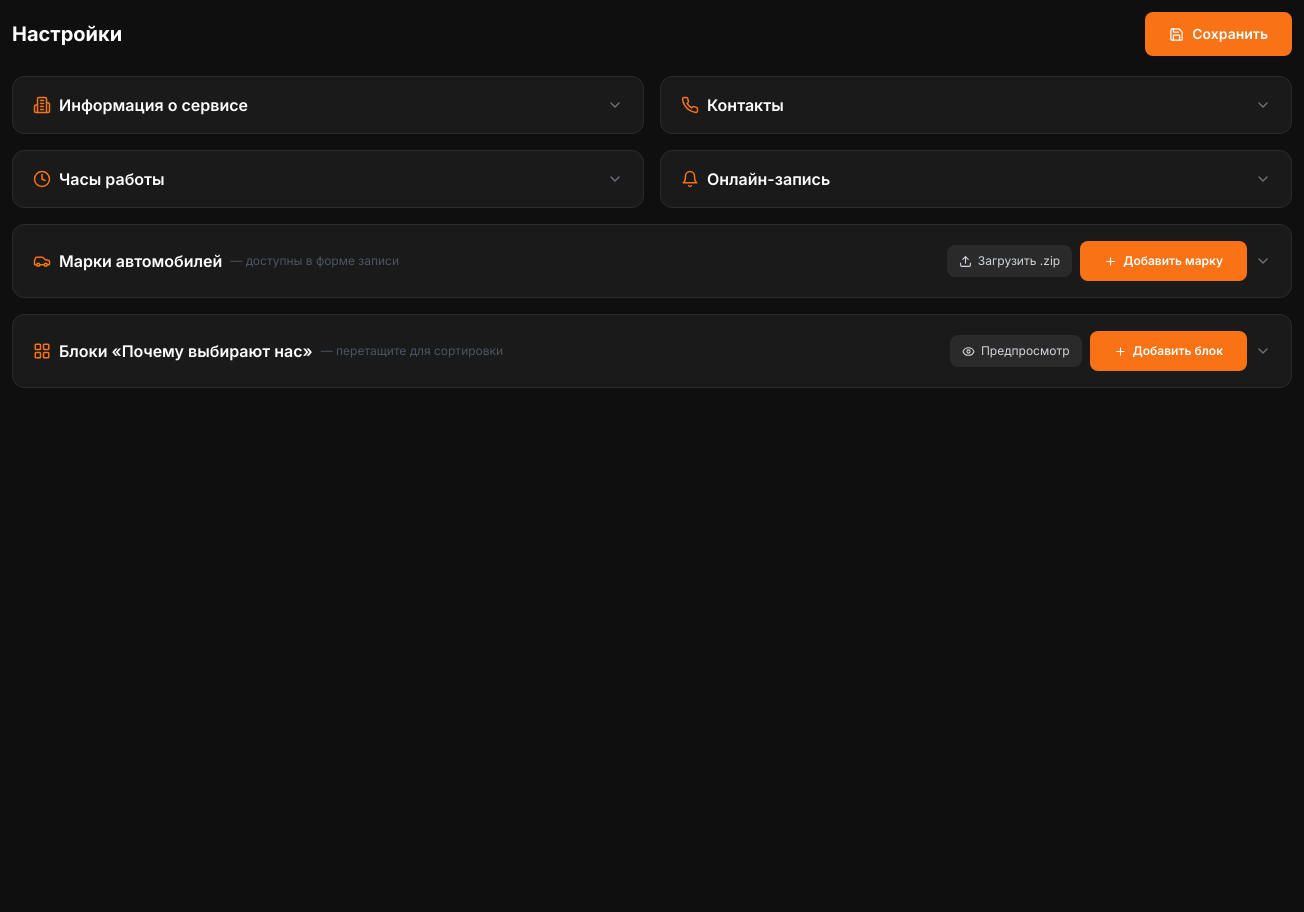
Scenario: SettingsPage › collapses section when header is clicked again
The image size is (1304, 912).
Click the heading "Информация о сервисе". click: (154, 105)
box: [59, 93, 248, 117]
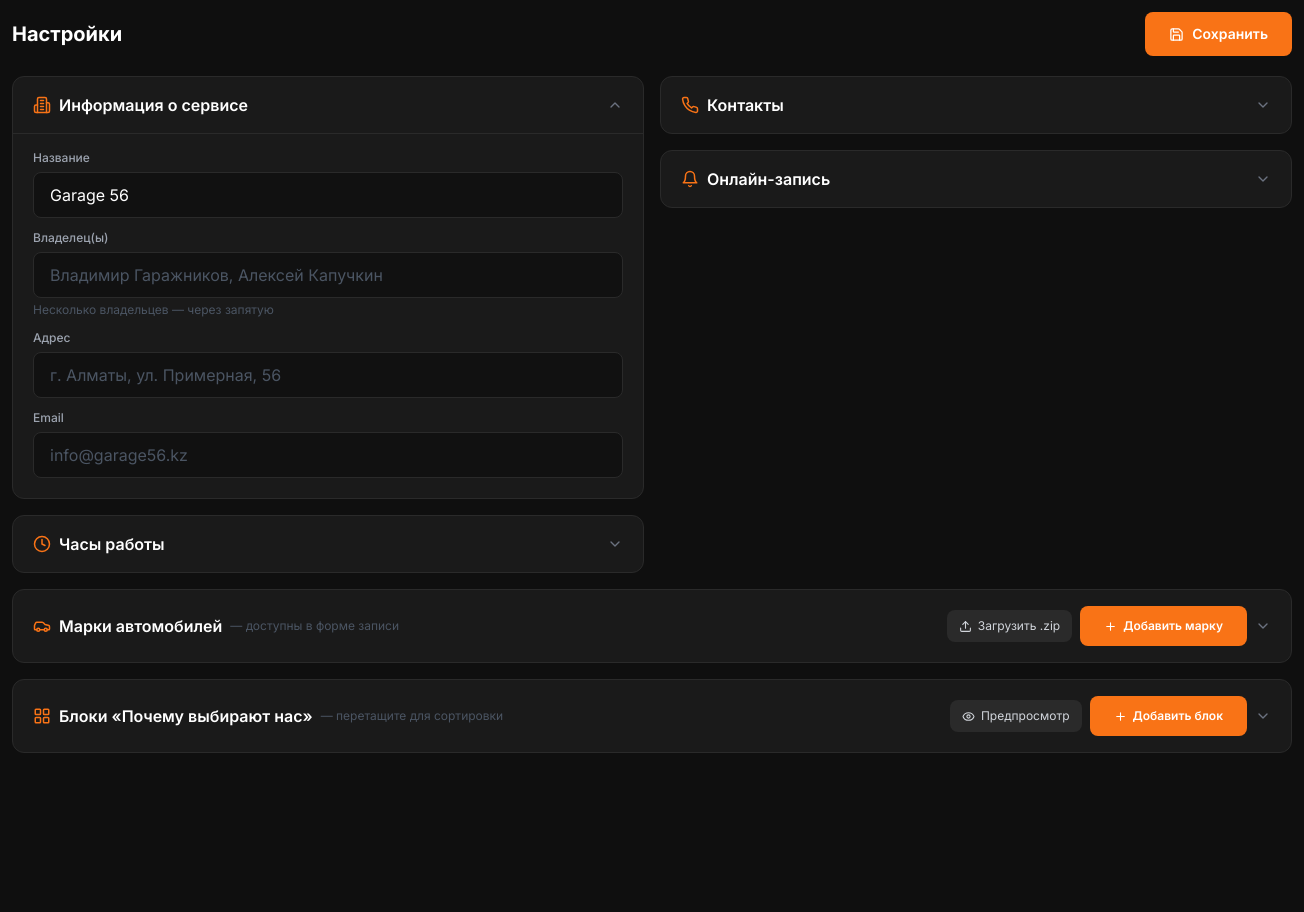
Check: the text "Название" is shown, box [33, 150, 90, 165]
Click the heading "Информация о сервисе". click: (154, 105)
box: [59, 93, 248, 117]
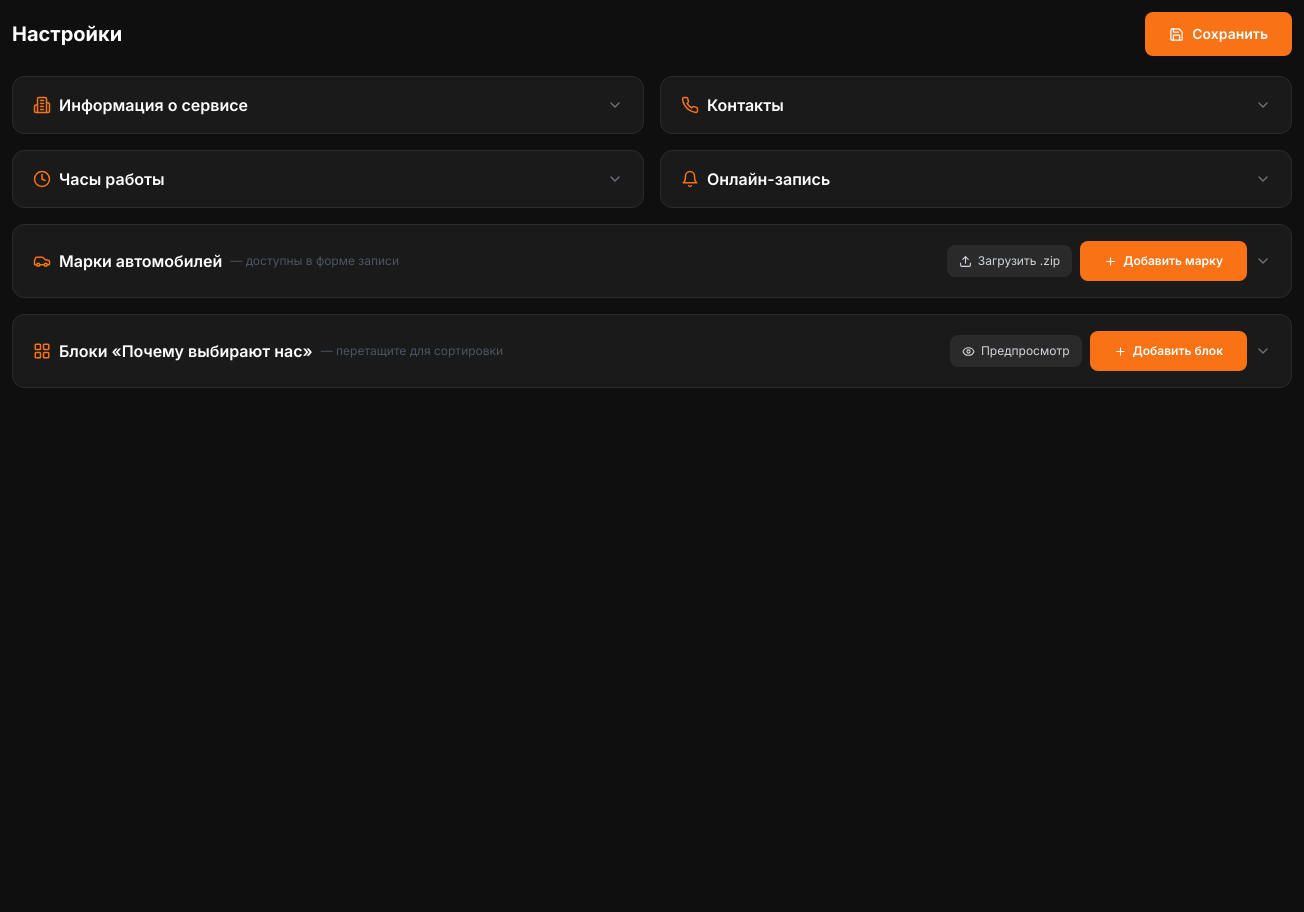
Check: the text "Название" is gone
